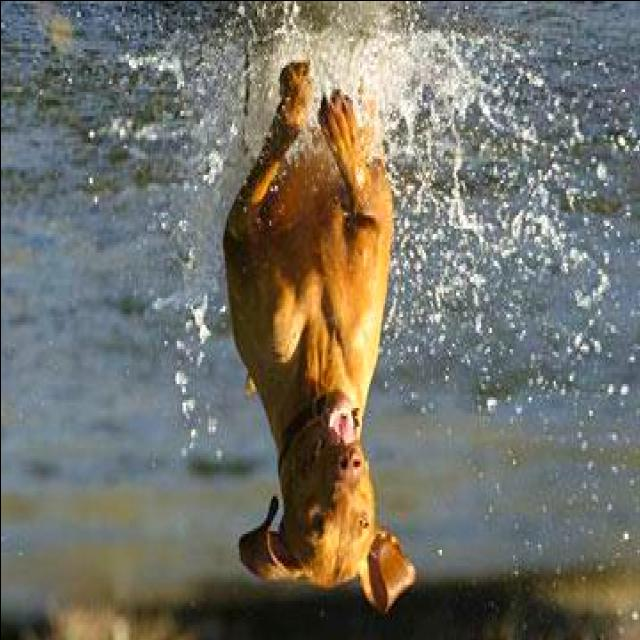vizsla: (216, 48, 420, 605)
